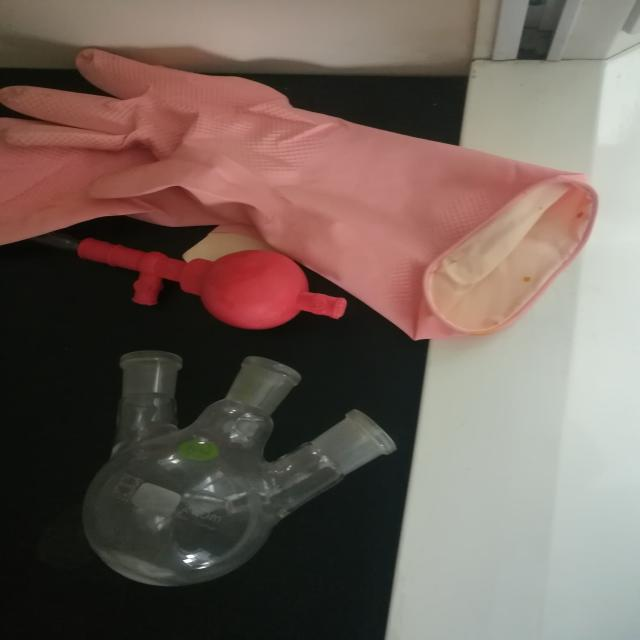Round_Bottom_Flask_Borosilicate_Glass_3_Neck: (48, 339, 420, 604)
